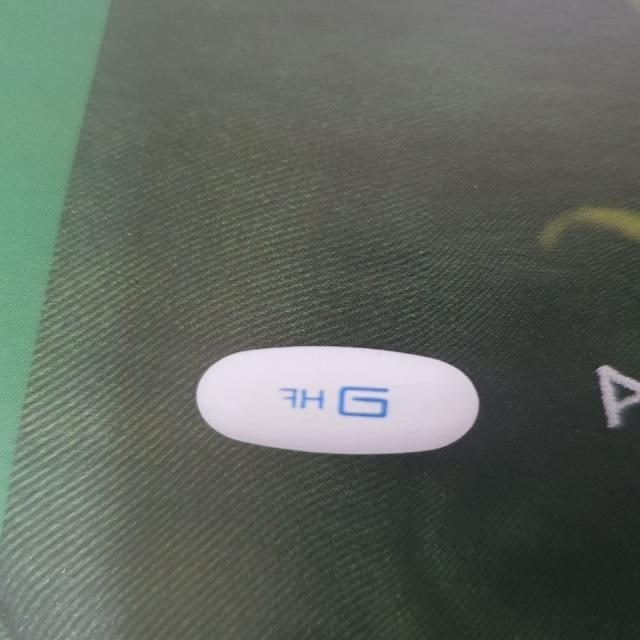pill: (189, 334, 478, 456)
